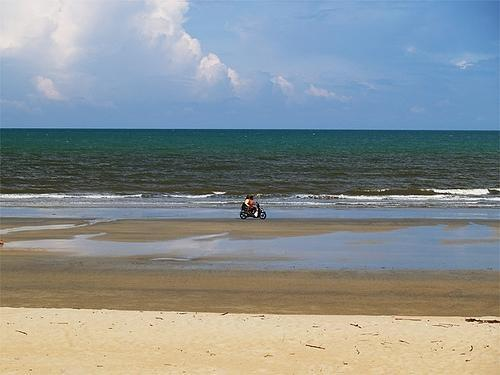motorcycle: (238, 201, 266, 219)
